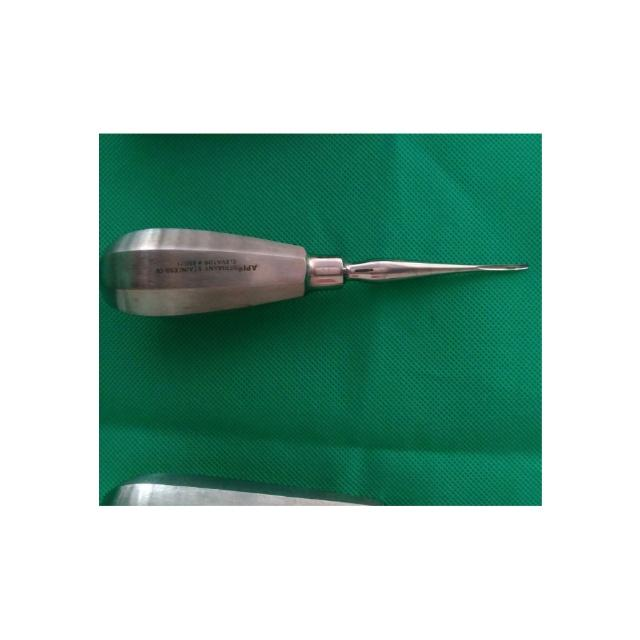botador: (107, 228, 527, 319)
